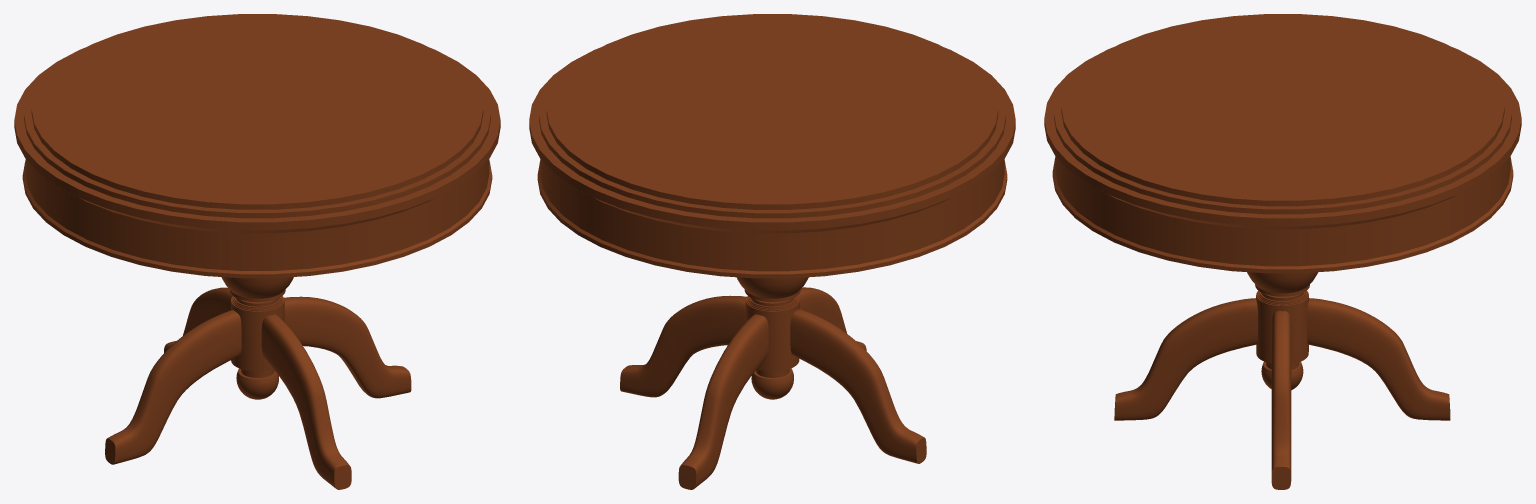
Rendered from table.fbx.
3 views of the same model, side by side, from view 1: azimuth 30°, elevation 25°; view 2: azimuth 150°, elevation 25°; view 3: azimuth 270°, elevation 25° (orthographic).
Visible parts, largest first — view 1: table, Cube.035, Cube.033, Cube.029, Cylinder.001, Sphere, Cube.031, Sphere.001; view 2: table, Cube.035, Cube.033, Cube.031, Cylinder.001, Sphere, Cube.029, Sphere.001; view 3: table, Cube.029, Cube.031, Cube.033, Cylinder.001, Sphere, Sphere.001.
Part boxes in pixels (x1,y1,x2,y2): table: (14,14,500,278); Cube.035: (105,310,241,464); Cube.033: (284,296,411,398); Cube.029: (261,314,351,489); Cylinder.001: (231,296,284,371); Sphere: (221,277,293,302); Cube.031: (164,287,232,352); Sphere.001: (236,368,278,399); table: (529,14,1015,278); Cube.035: (790,309,926,463); Cube.033: (620,295,746,397); Cube.031: (678,314,768,489); Cylinder.001: (745,296,799,371); Sphere: (736,277,808,302); Cube.029: (797,287,866,350); Sphere.001: (751,368,793,399); table: (1044,14,1521,273); Cube.029: (1114,298,1257,420); Cube.031: (1307,298,1450,420); Cube.033: (1271,310,1291,489); Cylinder.001: (1256,290,1308,363); Sphere: (1247,272,1317,296); Sphere.001: (1261,361,1303,390).
Bounding box in the file's own units: 429 × 310 × 430.
